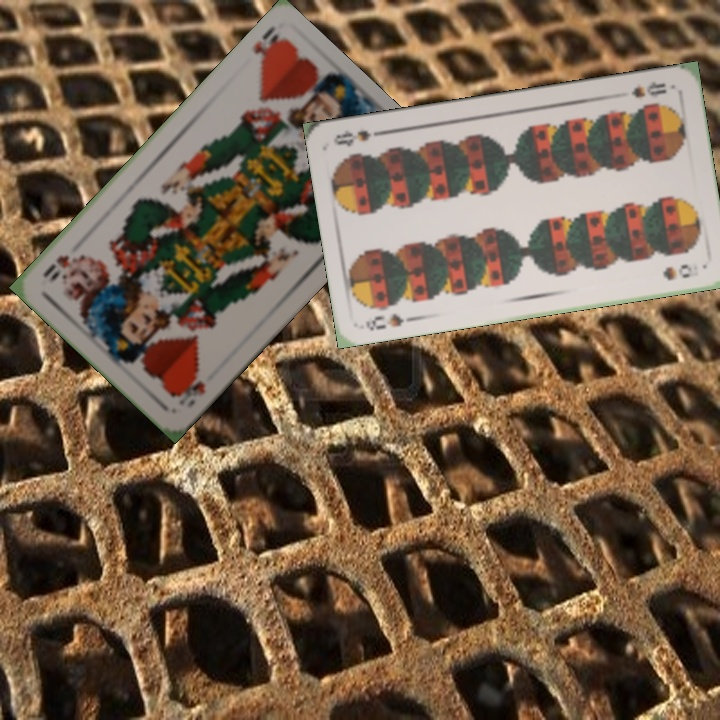HO: (249, 22, 282, 70), (169, 371, 208, 411)
S8: (361, 310, 418, 334), (627, 77, 669, 101)
